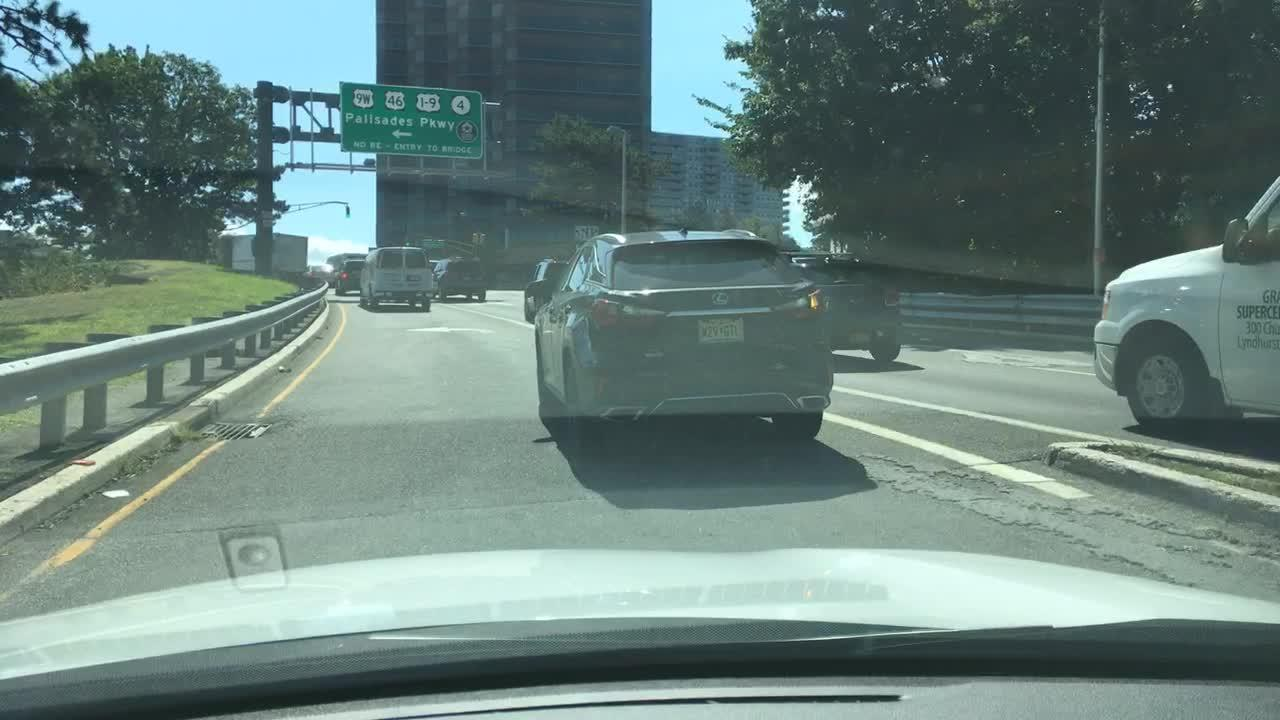lexus: (700, 283, 736, 309)
